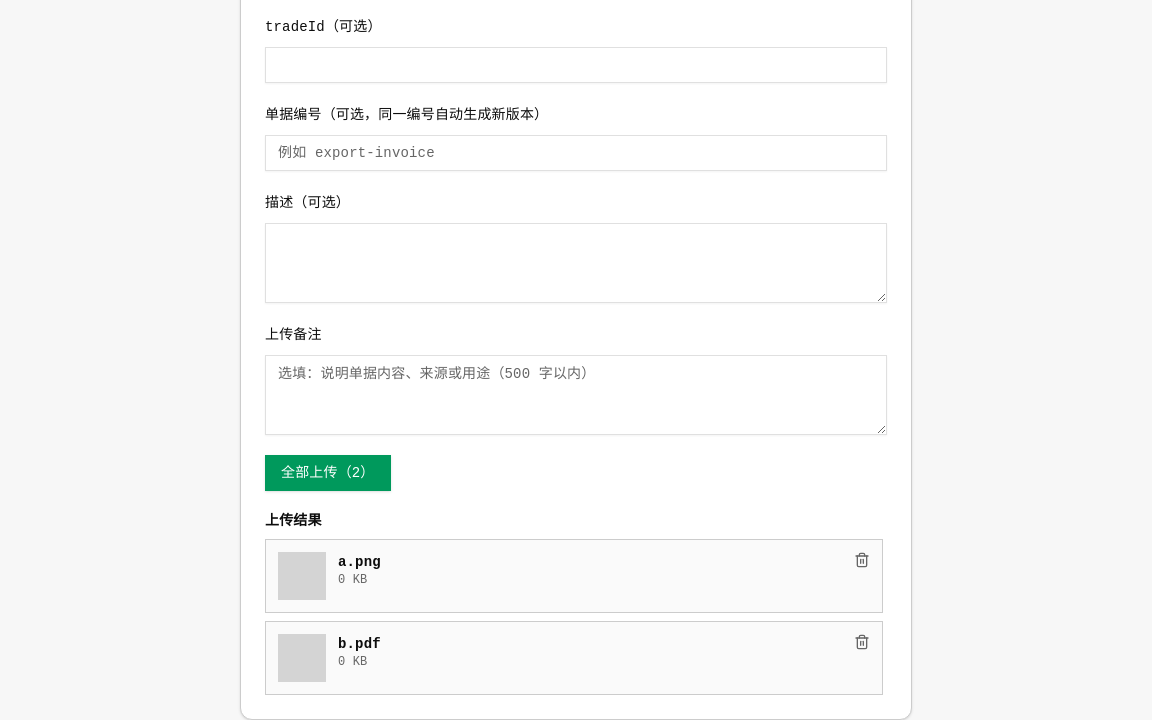
Test: UploadPage › uploads multiple files in one batch, each with its own hash
(page scrolled)
Click the button "全部上传（2）".
click(328, 473)  # box x1=265 y1=455 x2=390 y2=491
(page scrolled)
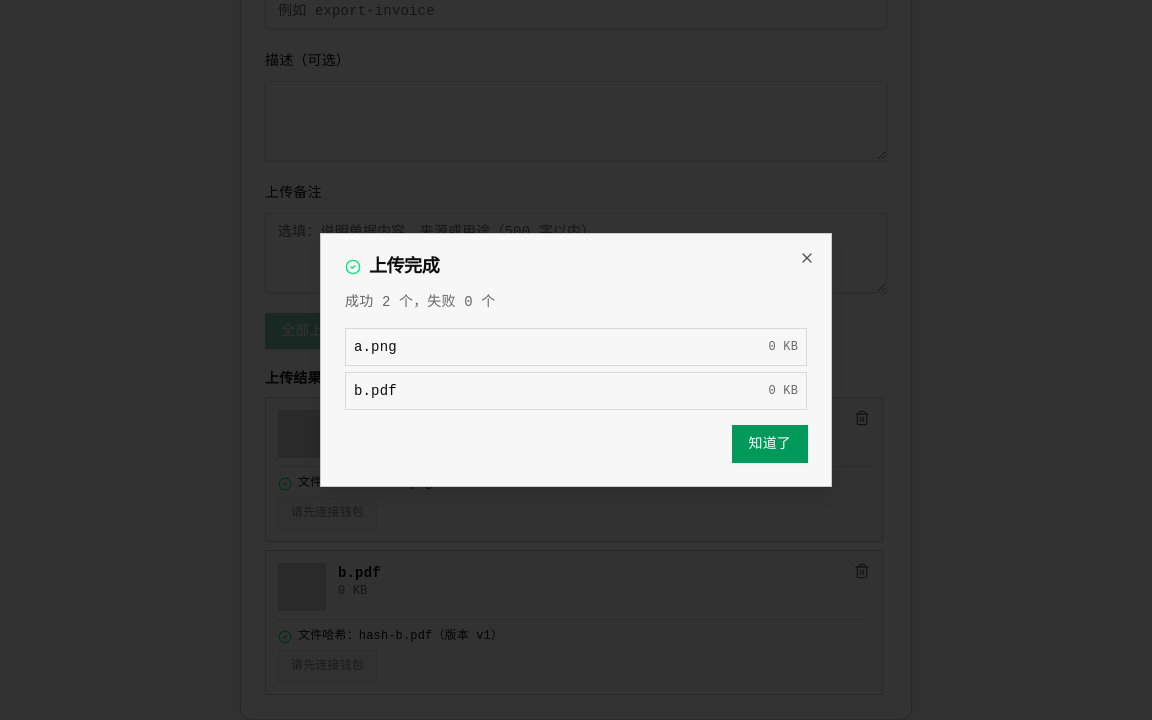
Check: the text "b.pdf" below "文件哈希：hash-a.png" is shown, box x1=338 y1=565 x2=381 y2=581
Check: the text "文件哈希：hash-a.png（版本 v1）" is shown, box x1=298 y1=475 x2=503 y2=491
Check: the text "文件哈希：hash-b.pdf（版本 v1）" is shown, box x1=298 y1=628 x2=503 y2=644
